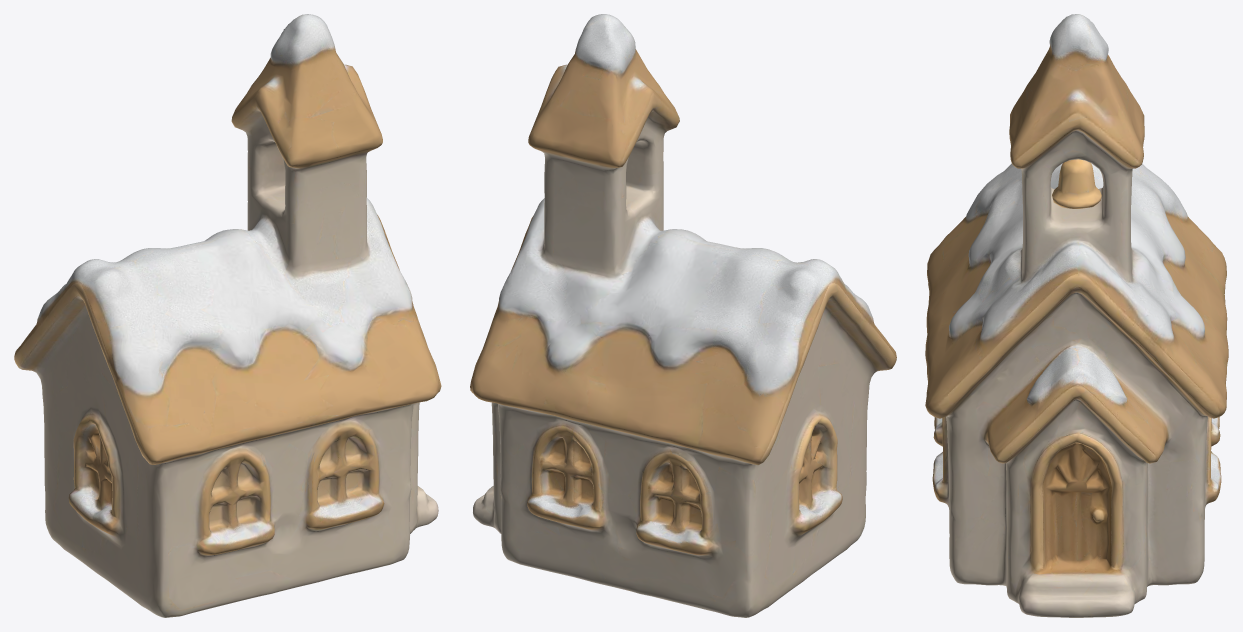
Rendered from chapel.glb.
3 views of the same model, side by side, from view 1: azimuth 30°, elevation 25°; view 2: azimuth 150°, elevation 25°; view 3: azimuth 270°, elevation 25° (orthographic). The views are drawn at different scales.
Size of the model in its own units: 1.38 by 2 by 1.
Materials: 1 (1 with a texture image).
